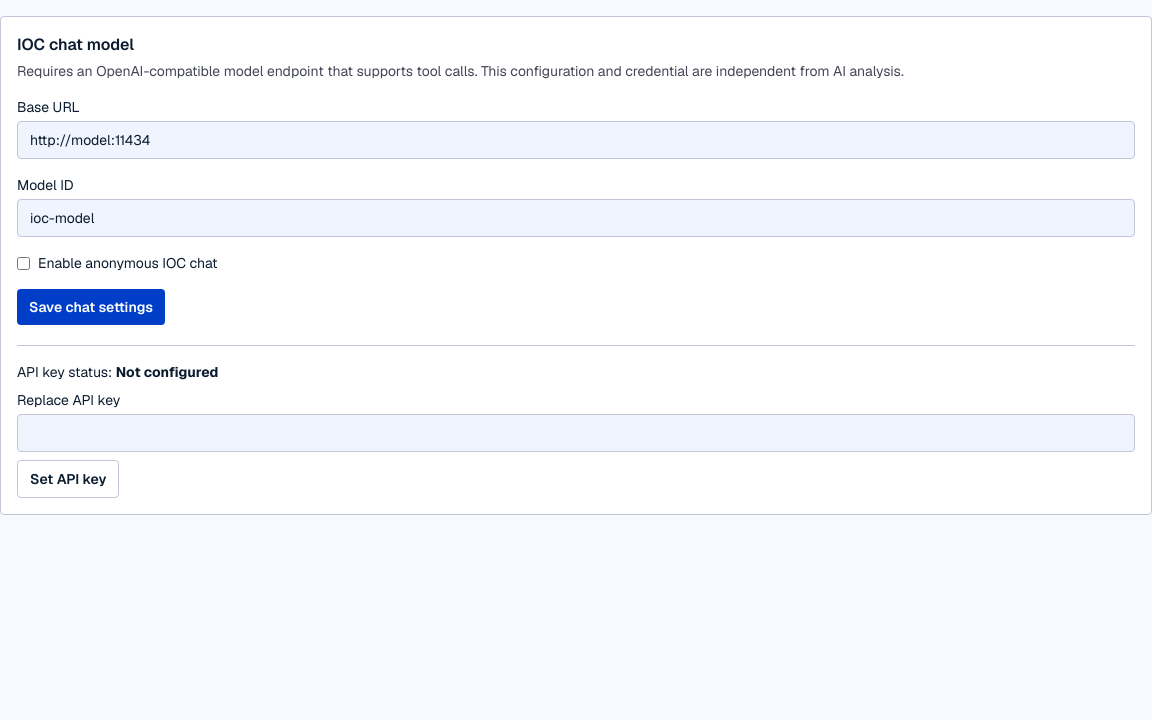
AdminIocChatSettings › retains the draft after save failure and clears plaintext key after success
This screenshot has width=1152, height=720.
Replace the text in the field labelled "Base URL" with "http://changed:11434". click: {"x": 576, "y": 140}
box: [17,121,1135,159]
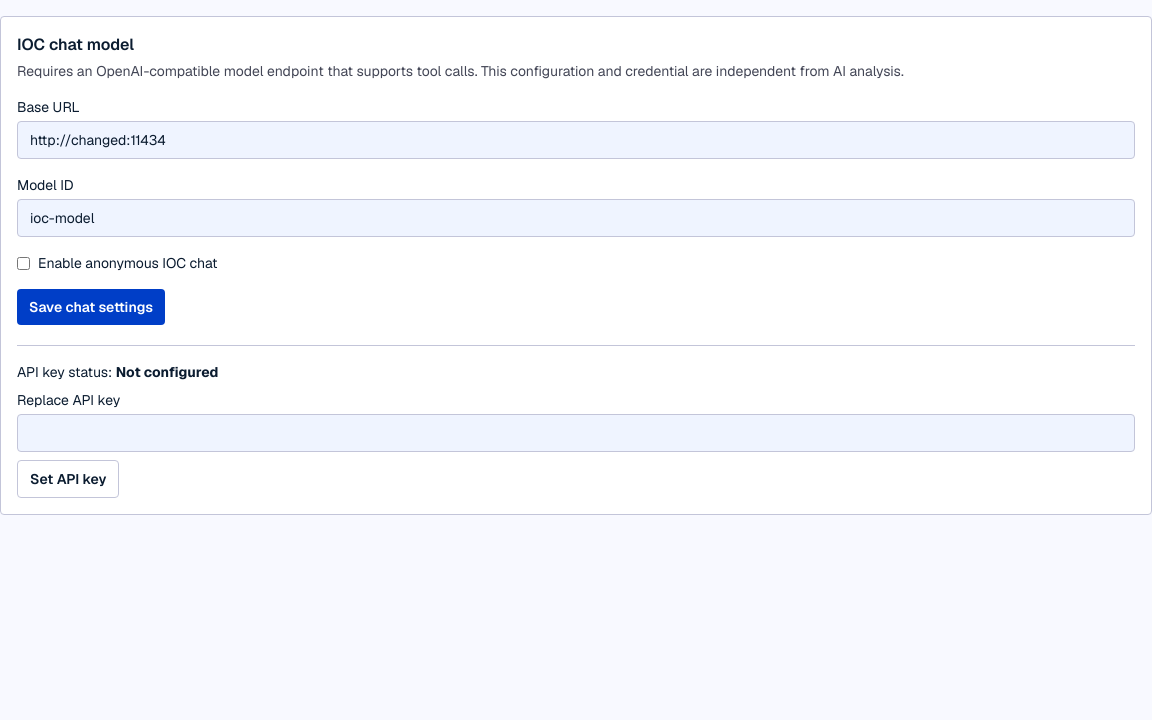
Click the button "Save chat settings". click: {"x": 91, "y": 307}
box: [17,289,165,325]
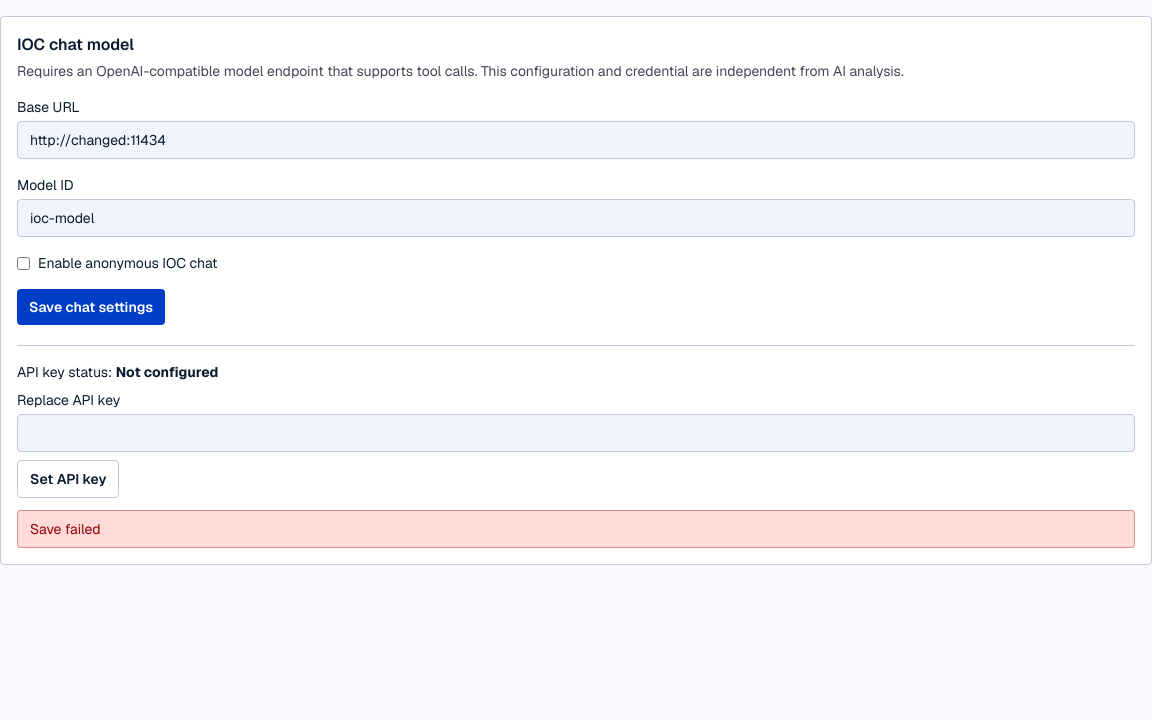
Now the text "Save failed" is shown, box [17,510,1135,548]
Type "secret-value" into the password field labelled "Replace API key". click: {"x": 576, "y": 433}
box: [17,414,1135,452]
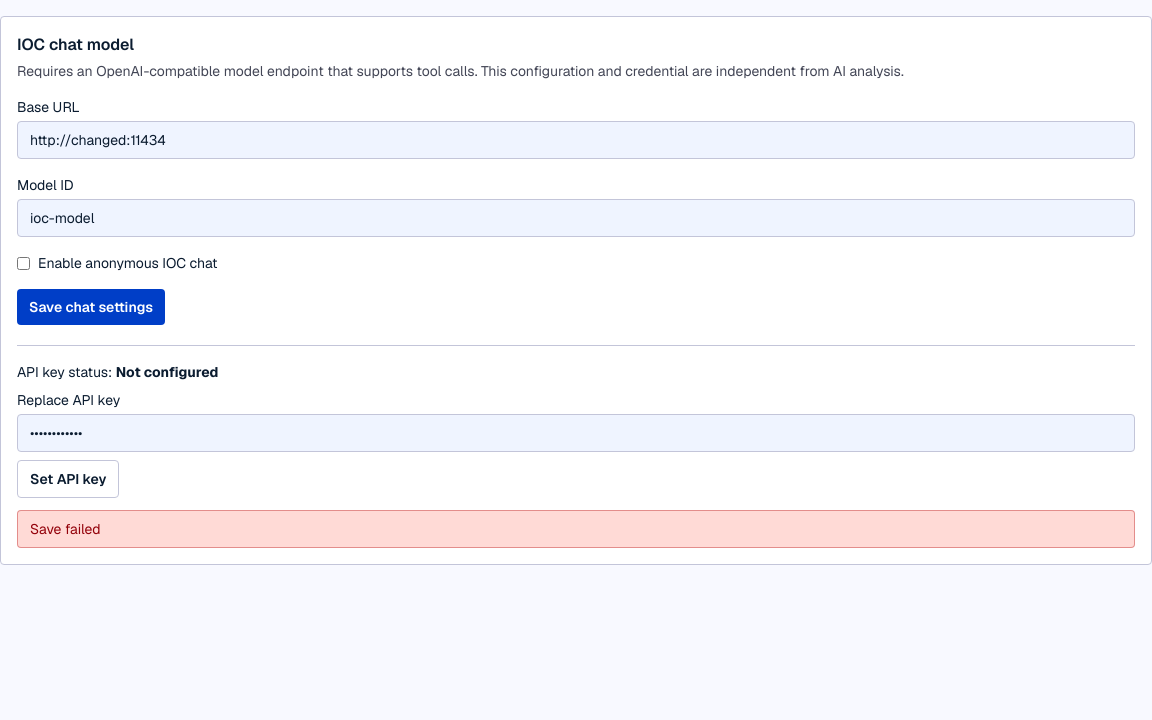
Click the button "Set API key". click: {"x": 68, "y": 479}
box: [17,460,119,498]
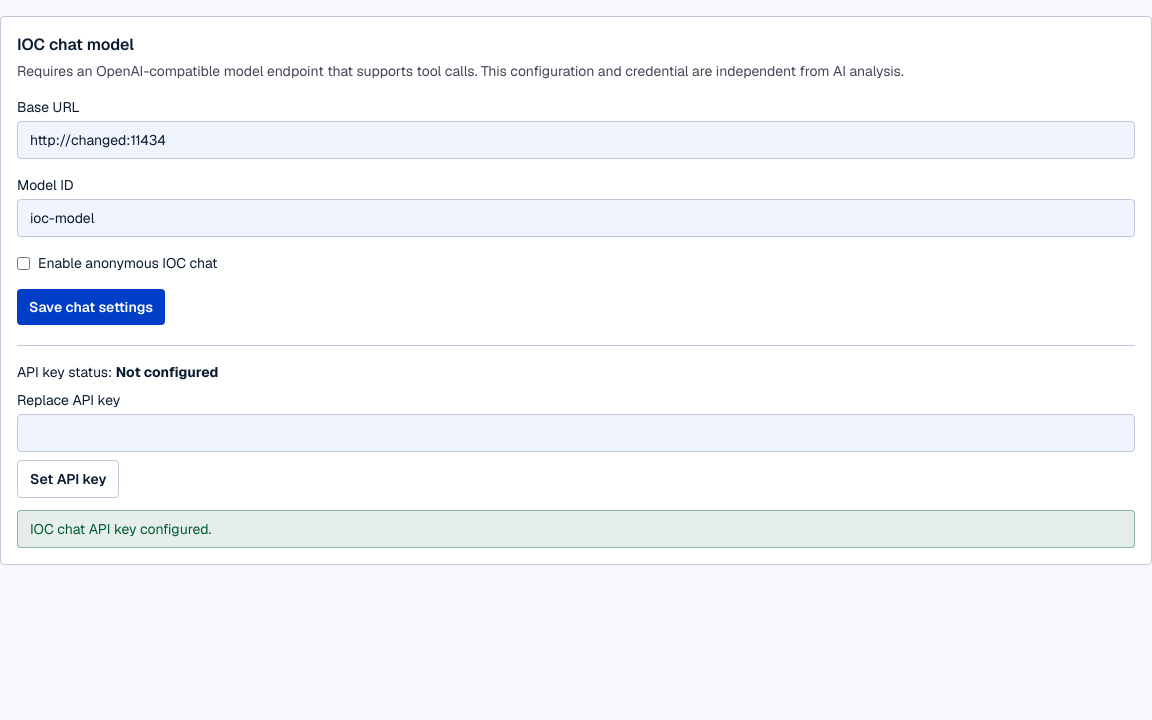
Now the message reads "IOC chat API key configured.", box [30,520,211,538]
